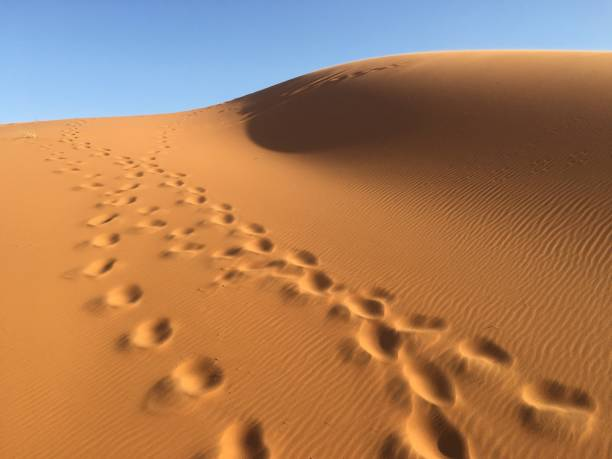human_footprint: (336, 290, 511, 366), (517, 379, 596, 439), (143, 355, 224, 411), (218, 419, 271, 458), (117, 317, 175, 350), (84, 283, 143, 312), (82, 257, 116, 277), (86, 212, 118, 226)
